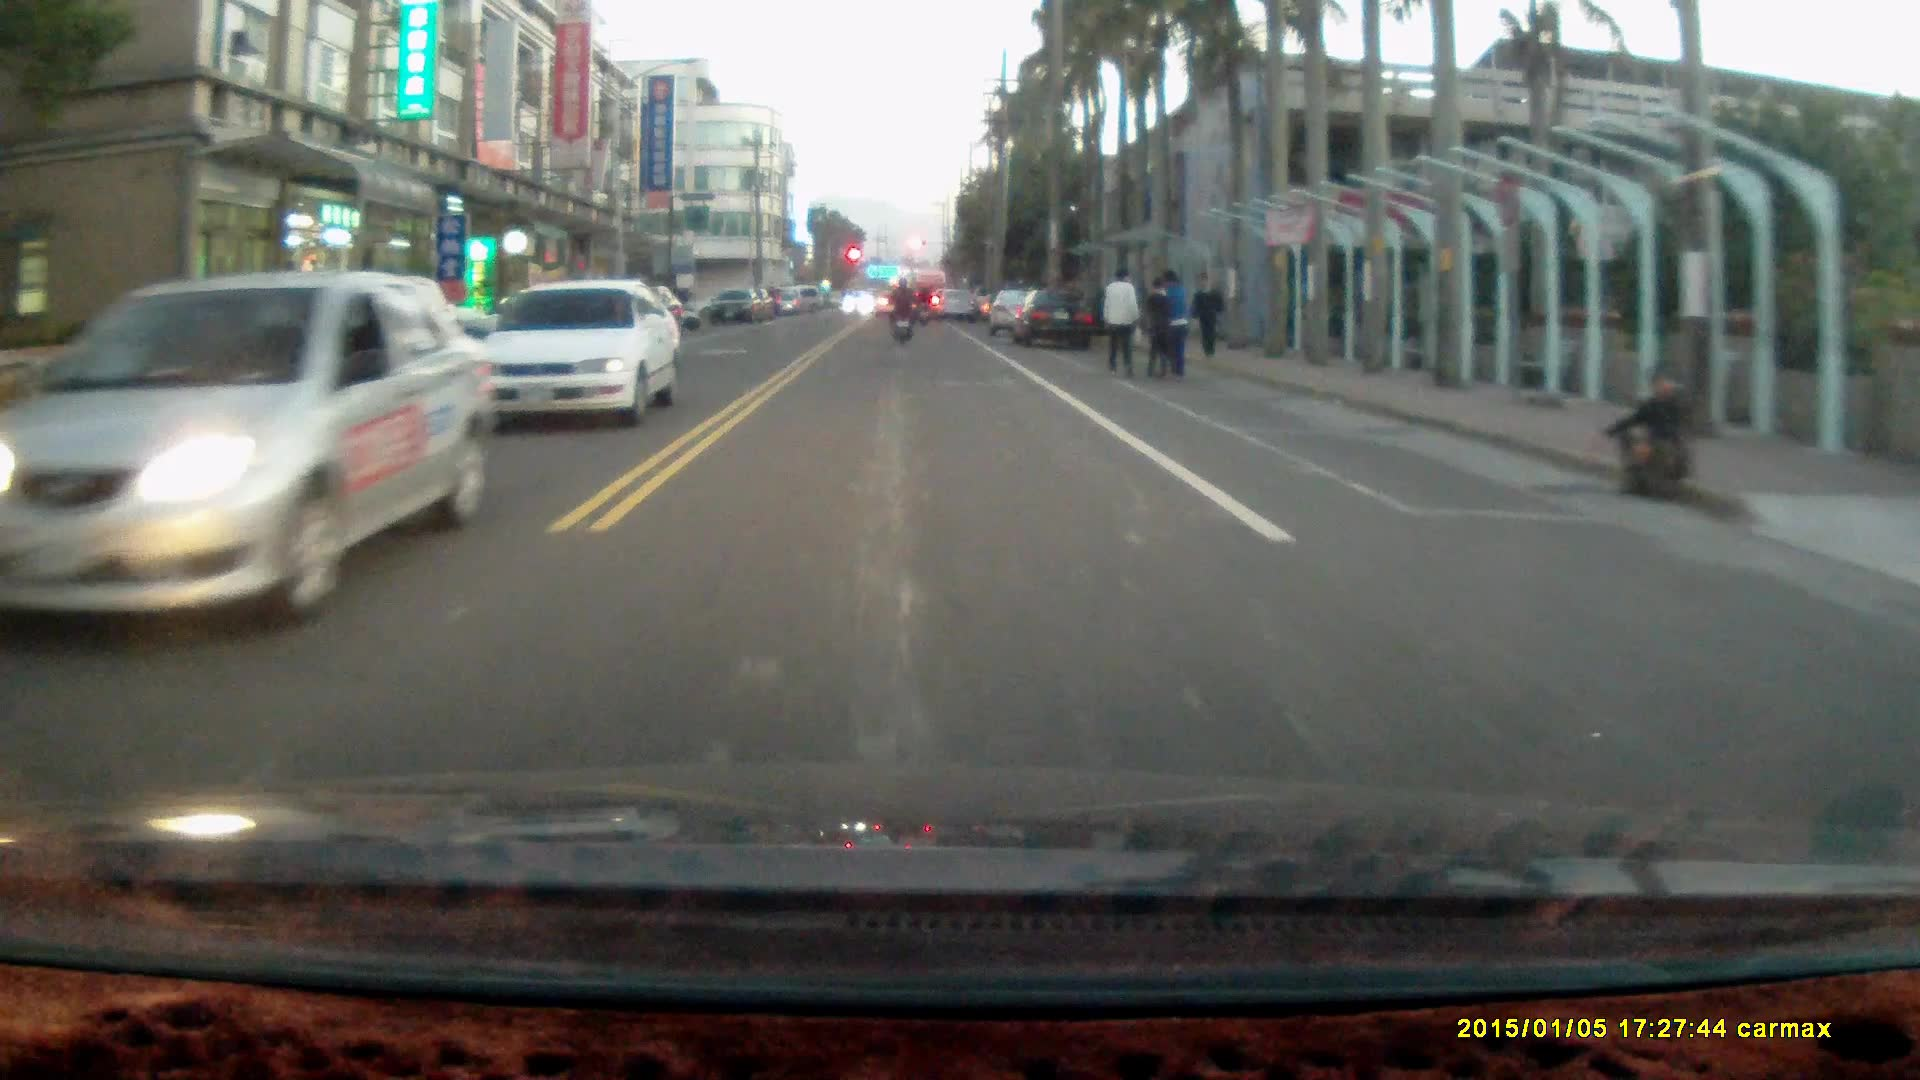pedestrian: (1599, 367, 1694, 503), (1147, 264, 1194, 380), (1100, 262, 1138, 378), (1140, 274, 1178, 381), (1190, 268, 1225, 358)
rider: (884, 276, 915, 348)
vehicle: (1, 270, 508, 633), (475, 279, 684, 424), (1007, 290, 1100, 347)
